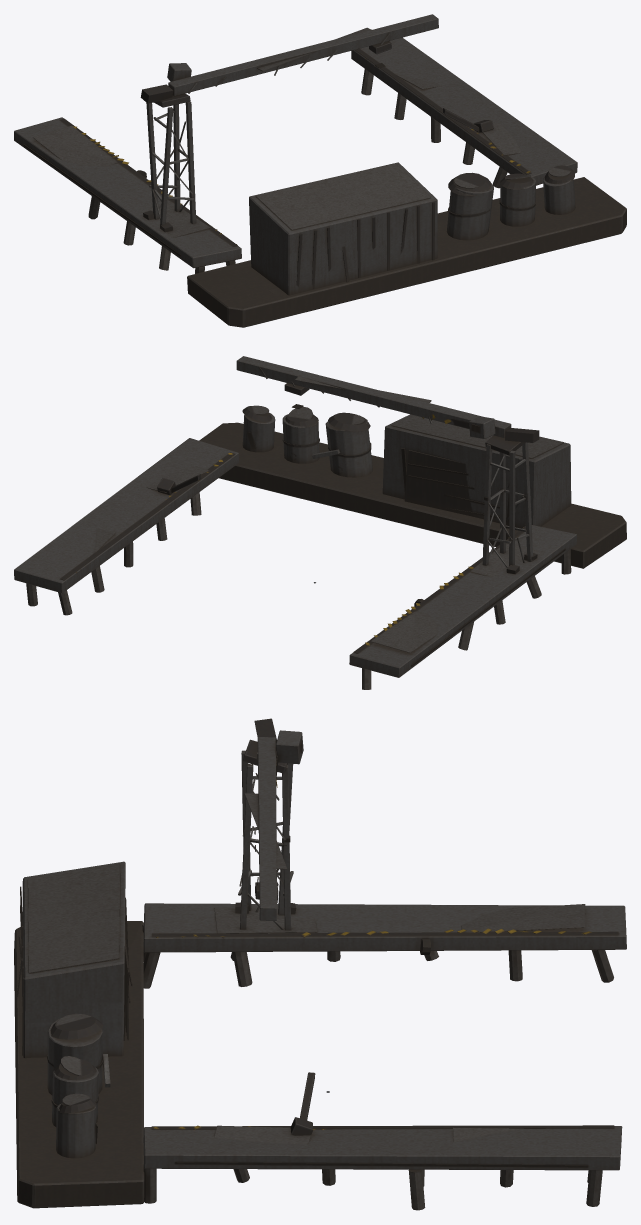
Rendered from chs_shipyard_wreck.fbx.
3 renders of one model, top to bottom at view 1: azimuth 30°, elevation 25°; view 2: azimuth 150°, elevation 25°; view 3: azimuth 270°, elevation 25°, orthographic. The views are drawn at different scales.
Parts seen in each view (by area): view 1: base_bar, jib_bar; view 2: base_bar, jib_bar; view 3: base_bar, jib_bar.
Boxes of the visible parts, x1=… form: base_bar: x1=14, y1=37, x2=626, y2=327; jib_bar: x1=140, y1=14, x2=438, y2=103; base_bar: x1=14, y1=405, x2=626, y2=689; jib_bar: x1=236, y1=356, x2=539, y2=442; base_bar: x1=14, y1=739, x2=626, y2=1210; jib_bar: x1=244, y1=718, x2=303, y2=920.
Size of the model in its own units: 3943 by 1780 by 3860.
Materials: 2 (2 with a texture image).
